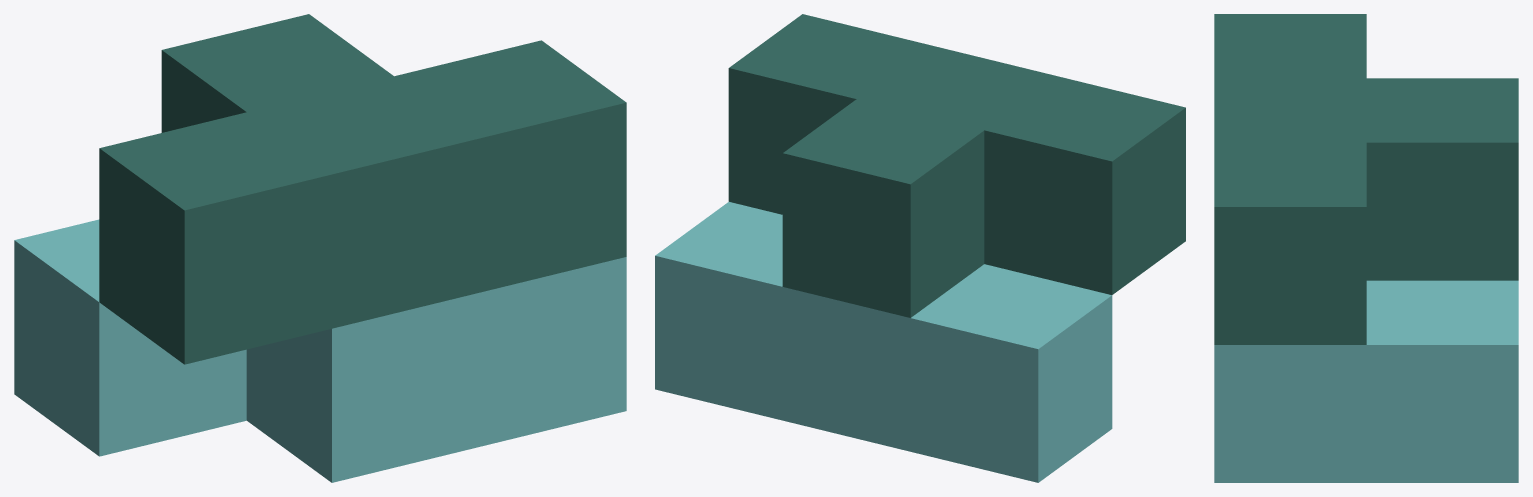
File: treechunk2.obj
3 renders of one model, left to right at view 1: azimuth 30°, elevation 25°; view 2: azimuth 150°, elevation 25°; view 3: azimuth 270°, elevation 25°, orthographic. The views are drawn at different scales.
Size of the model in its own units: 0.3 by 0.2 by 0.2.
Materials: 1 (1 with a texture image).
